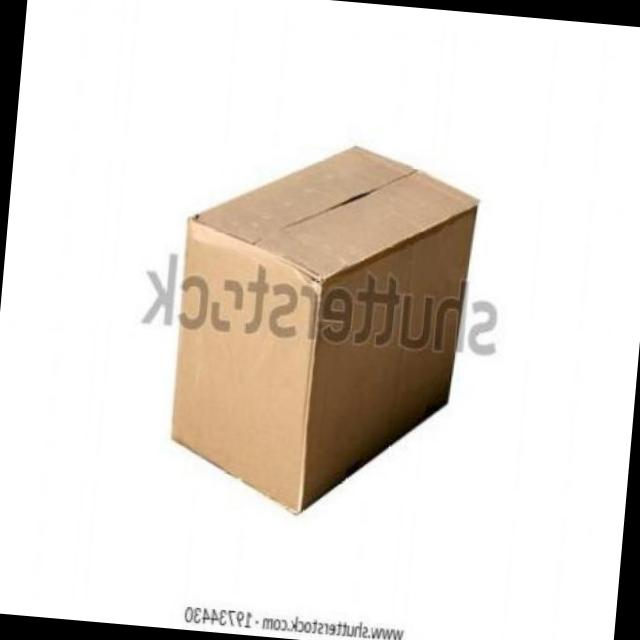box: (134, 105, 511, 542)
